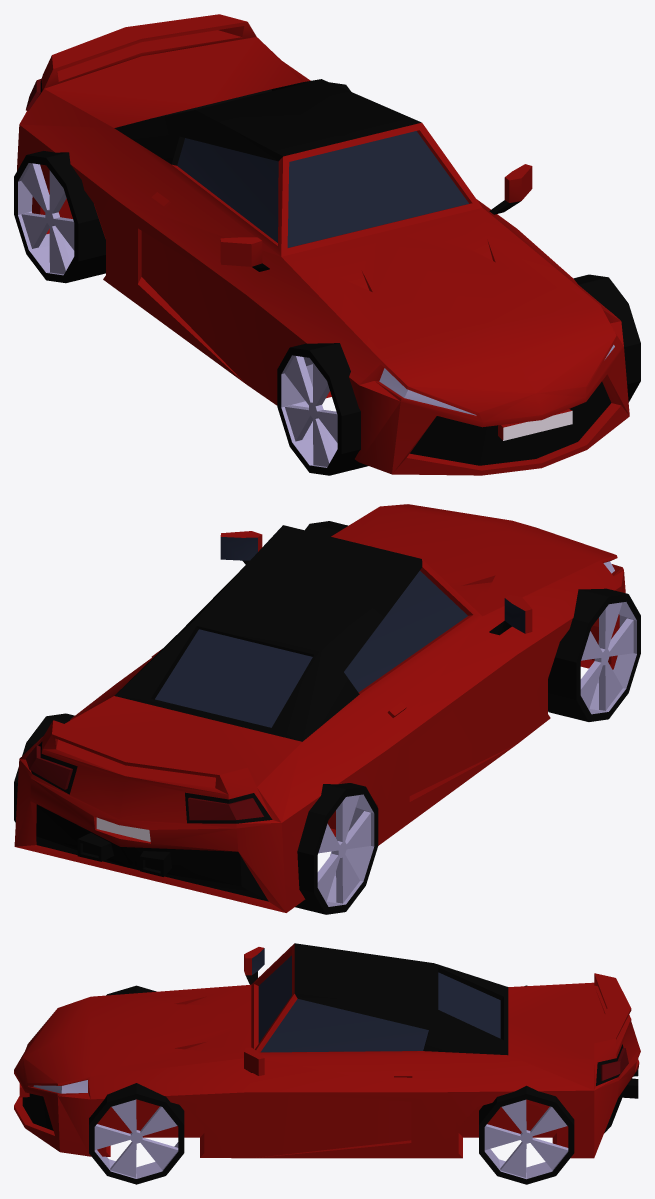
Rendered from nightjar.glb.
3 renders of one model, top to bottom at view 1: azimuth 30°, elevation 25°; view 2: azimuth 150°, elevation 25°; view 3: azimuth 270°, elevation 25°, orthographic. The views are drawn at different scales.
Parts seen in each view (by area): view 1: paint, palette, trim, glass, tyre (×3), chrome, headlight; view 2: paint, trim, palette, glass, taillight, tyre (×2), rim, chrome; view 3: paint, trim, palette, glass, rim (×2), tyre, taillight, headlight.
Part boxes in pixels (left/top/right/bottom): paint: left=17, top=14, right=629, bottom=475; palette: left=14, top=82, right=640, bottom=475; trim: left=38, top=79, right=611, bottom=465; glass: left=177, top=131, right=468, bottom=247; tyre (×3): left=14, top=158, right=640, bottom=452; chrome: left=503, top=411, right=572, bottom=440; headlight: left=379, top=345, right=614, bottom=415; paint: left=14, top=504, right=625, bottom=912; trim: left=31, top=525, right=511, bottom=901; palette: left=14, top=521, right=640, bottom=914; glass: left=155, top=537, right=525, bottom=727; taillight: left=25, top=745, right=263, bottom=820; tyre (×2): left=297, top=594, right=640, bottom=887; rim: left=317, top=795, right=374, bottom=899; chrome: left=96, top=817, right=150, bottom=841; paint: left=14, top=943, right=640, bottom=1158; trim: left=22, top=943, right=638, bottom=1133; palette: left=89, top=985, right=574, bottom=1184; glass: left=252, top=948, right=500, bottom=1052; rim (×2): left=95, top=1100, right=568, bottom=1176; tyre: left=89, top=1090, right=184, bottom=1183; taillight: left=600, top=1048, right=628, bottom=1080; headlight: left=33, top=1080, right=87, bottom=1093.
Size of what is drawn, in the model's own units: 2.01 by 1.35 by 4.73.
12 materials, 3 textured.
